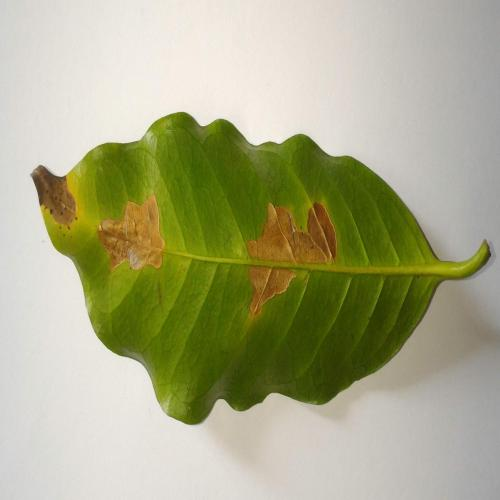leaf: (15, 109, 495, 432)
miner: (238, 192, 336, 323), (94, 194, 170, 275)
phoma: (23, 163, 80, 231)
